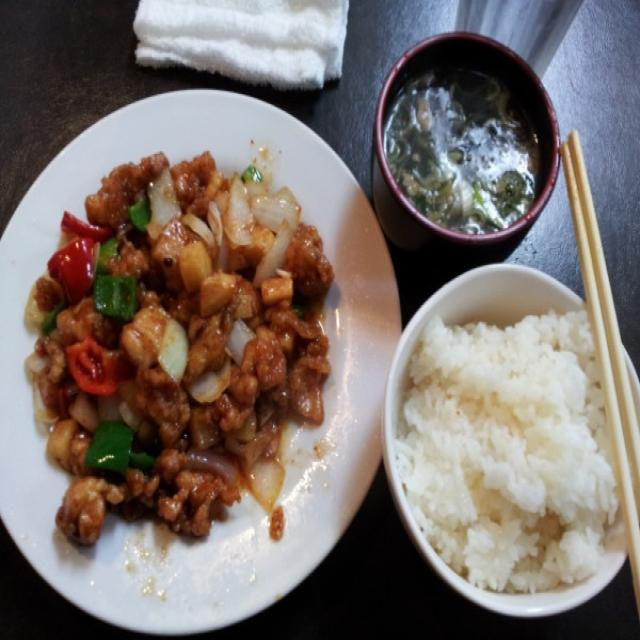Rice: (409, 312, 598, 582)
